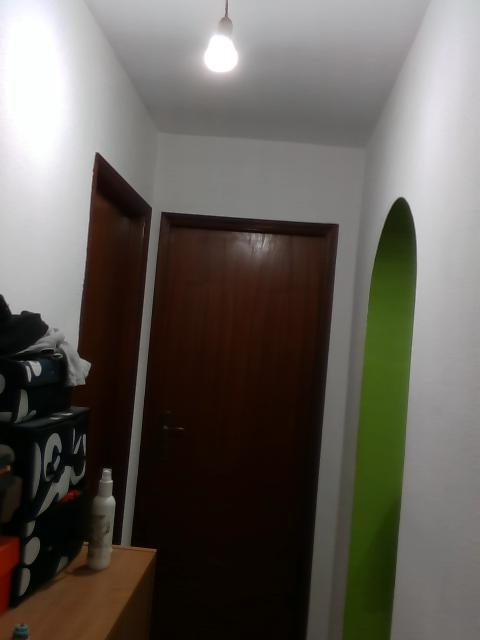door: (142, 225, 328, 640)
